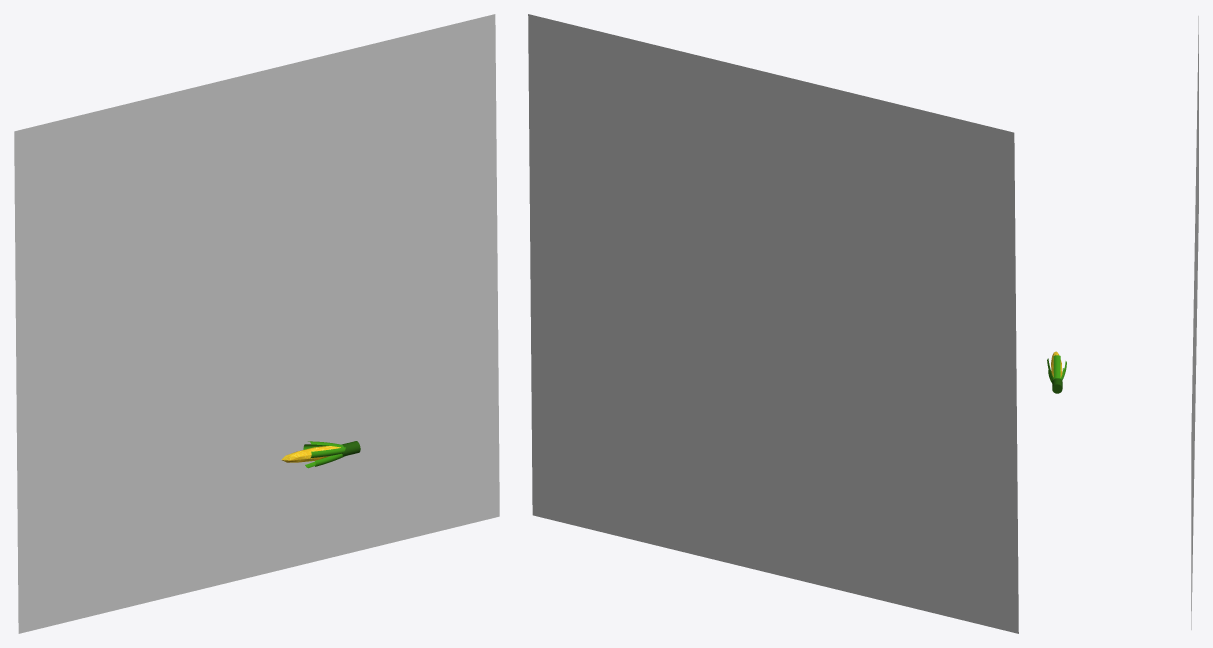
File: elote2.fbx
3 renders of one model, left to right at view 1: azimuth 30°, elevation 25°; view 2: azimuth 150°, elevation 25°; view 3: azimuth 270°, elevation 25°, orthographic. The views are drawn at different scales.
Visible parts, largest first — view 1: Plane; view 2: Plane; view 3: Plane.
Boxes of the visible parts, left/top/right/bottom form: Plane: left=14, top=14, right=499, bottom=633; Plane: left=528, top=14, right=1018, bottom=633; Plane: left=1191, top=16, right=1198, bottom=629.
Bounding box in the file's own units: 4082 × 4047 × 1320.
Materials: 8 (1 with a texture image).
